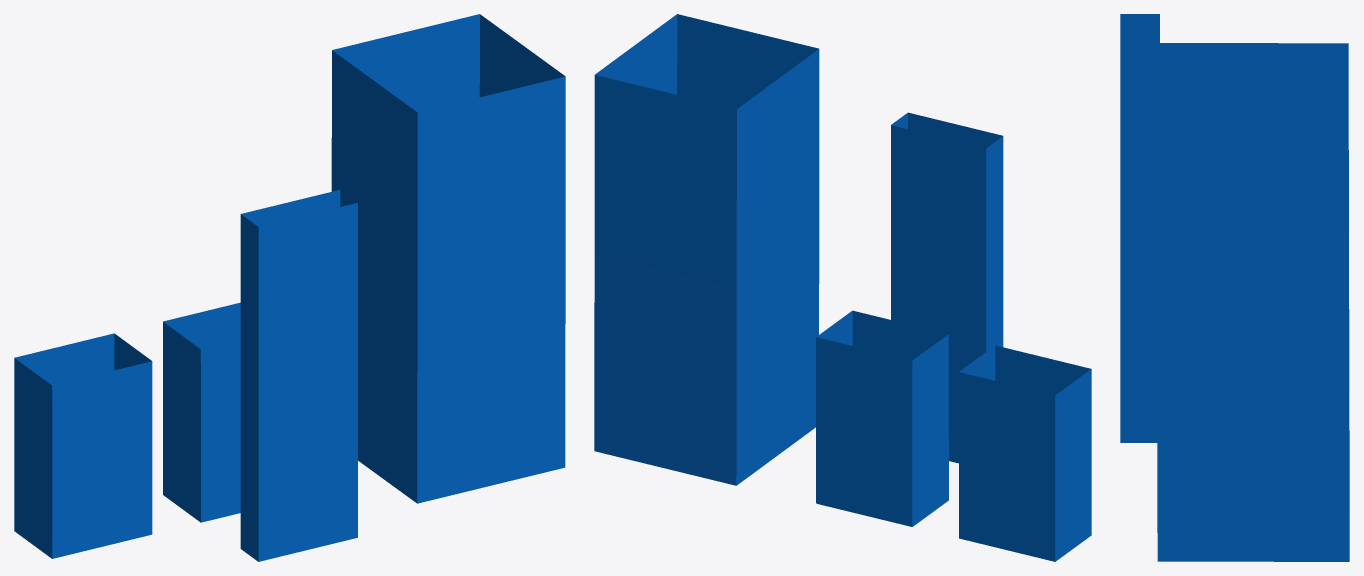
Rendered from Tetris_PlatformLightCube.fbx.
3 views of the same model, side by side, from view 1: azimuth 30°, elevation 25°; view 2: azimuth 150°, elevation 25°; view 3: azimuth 270°, elevation 25° (orthographic). The views are drawn at different scales.
Visible parts, largest first — view 1: Tetris_PlatformLightCube; view 2: Tetris_PlatformLightCube; view 3: Tetris_PlatformLightCube.
Part boxes in pixels (bbox=[...]): Tetris_PlatformLightCube: bbox=[14, 14, 565, 561]; Tetris_PlatformLightCube: bbox=[594, 14, 1091, 561]; Tetris_PlatformLightCube: bbox=[1120, 14, 1349, 561].
Bounding box in the file's own units: 197 × 158 × 74.03.
